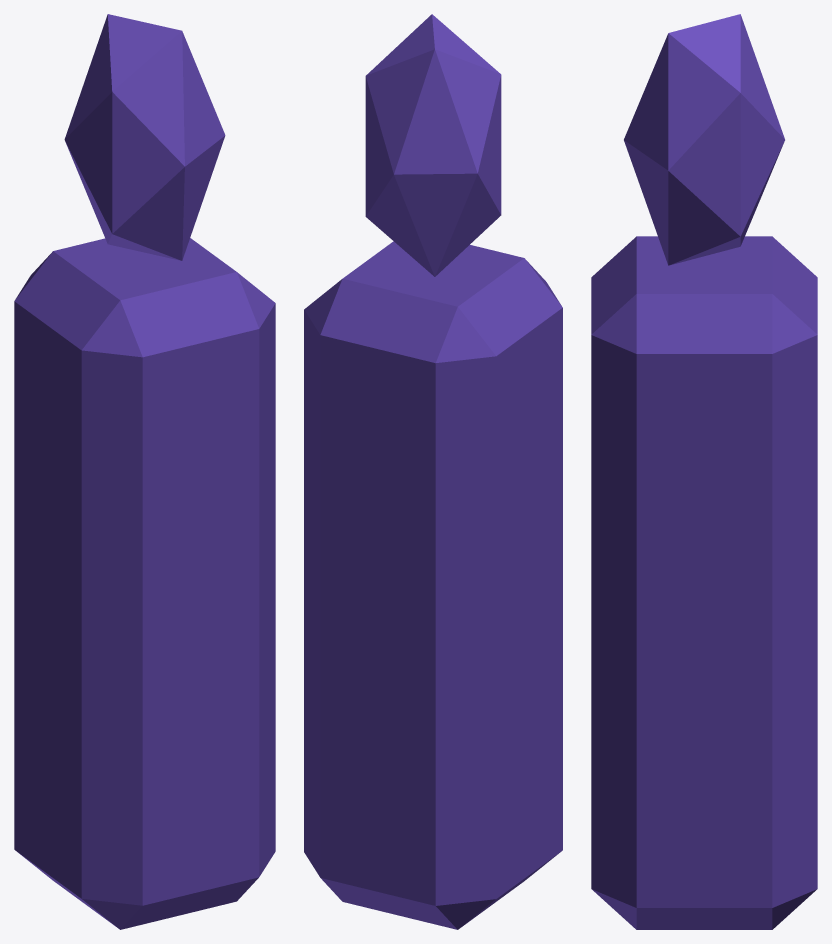
File: Crystal.fbx
The picture shows the model from 3 angles, left to right: view 1: azimuth 30°, elevation 25°; view 2: azimuth 150°, elevation 25°; view 3: azimuth 270°, elevation 25°; orthographic projection. The views are drawn at different scales.
Visible parts, largest first — view 1: pCube1, pPlatonic1; view 2: pCube1, pPlatonic1; view 3: pCube1, pPlatonic1.
Boxes of the visible parts, x1,y1,x2,y2 form: pCube1: (14,238,275,929); pPlatonic1: (64,14,225,260); pCube1: (304,241,562,929); pPlatonic1: (365,14,501,276); pCube1: (591,236,817,929); pPlatonic1: (624,14,784,265).
Bounding box in the file's own units: 1.82 × 7.79 × 1.82.
